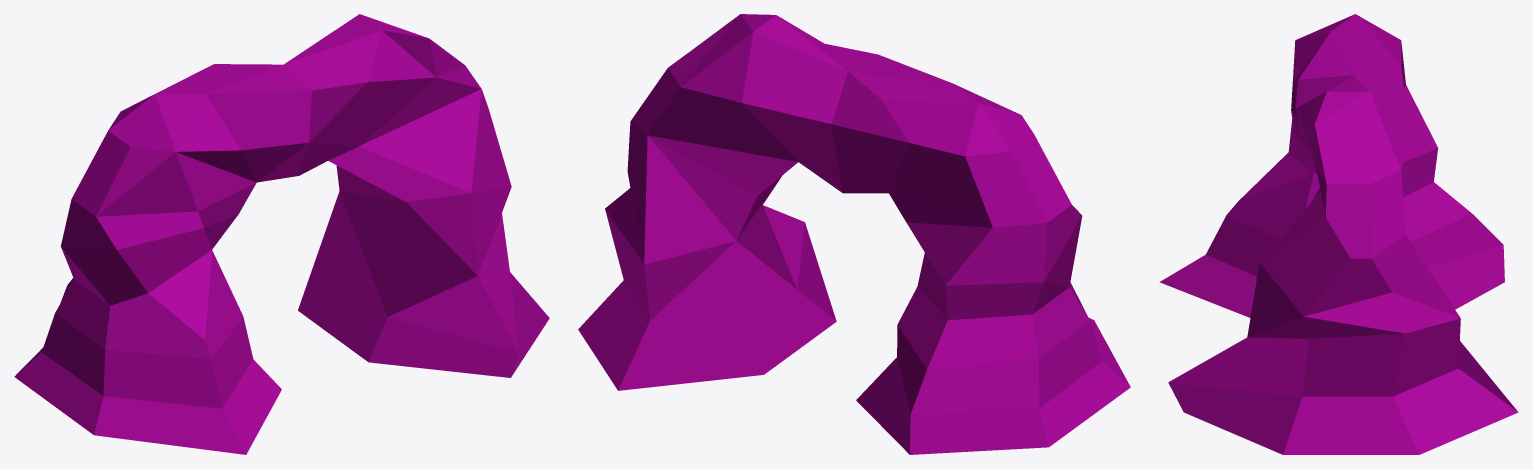
Rendered from Collider_Big_CaveRock_001.fbx.
The picture shows the model from 3 angles, left to right: view 1: azimuth 30°, elevation 25°; view 2: azimuth 150°, elevation 25°; view 3: azimuth 270°, elevation 25°; orthographic projection. The views are drawn at different scales.
Parts seen in each view (by area): view 1: Collider_Big_CaveRock_002; view 2: Collider_Big_CaveRock_002; view 3: Collider_Big_CaveRock_002.
Boxes of the visible parts, box(x1,y1,x2,y2) form: Collider_Big_CaveRock_002: box(14, 14, 549, 454); Collider_Big_CaveRock_002: box(578, 14, 1130, 454); Collider_Big_CaveRock_002: box(1159, 14, 1518, 454).
Size of the model in its own units: 15.53 by 9.85 by 10.87.
